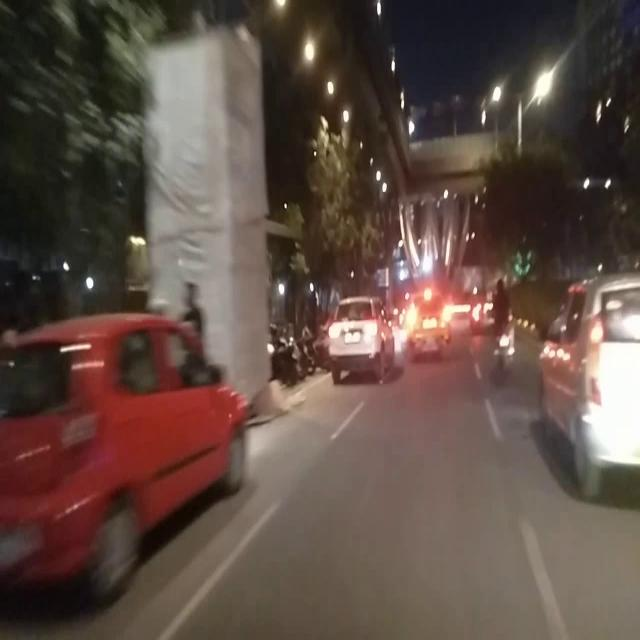car: (2, 308, 253, 620), (535, 272, 640, 498), (325, 295, 397, 384)
road: (113, 357, 640, 639)
